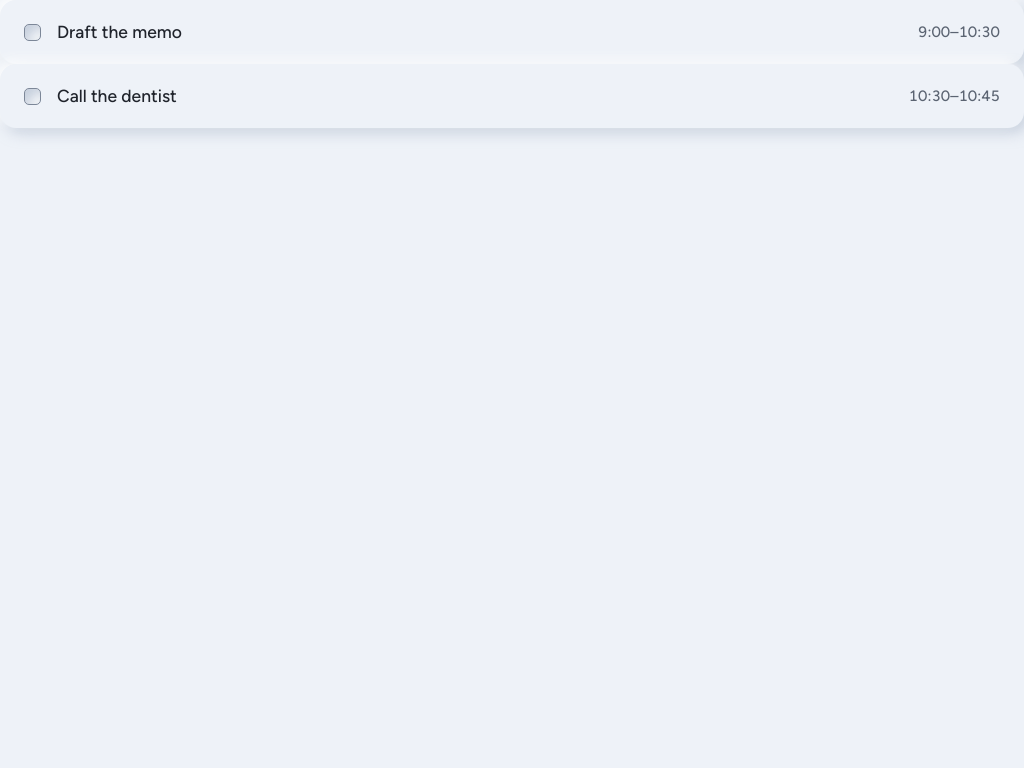
PlanChecklist › shows the Undo Toast — 'Checked off {Task} · Undo', polite live region, Secondary Undo button — once the server confirms
Click the checkbox named "Draft the memo". click: (32, 32)
box: [16, 16, 48, 48]
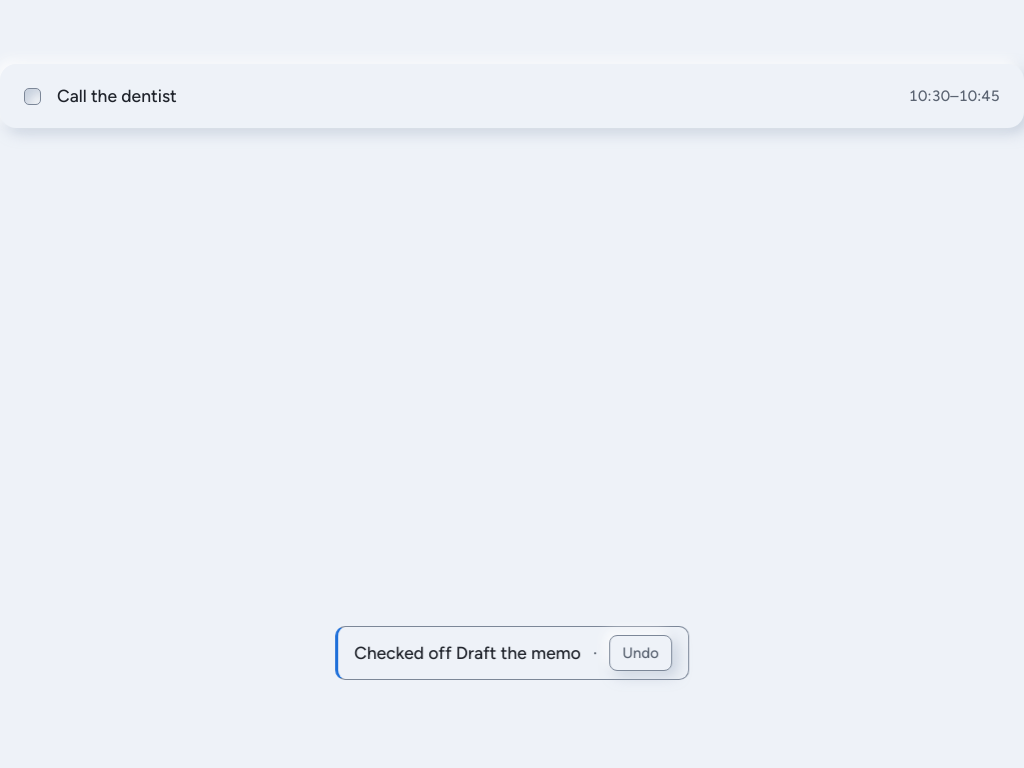
Check: the message with test id "undo-toast" reads "Checked off Draft the memo · Undo", box [335, 626, 689, 680]
Check: the button "Undo" is shown, box [609, 635, 672, 671]
